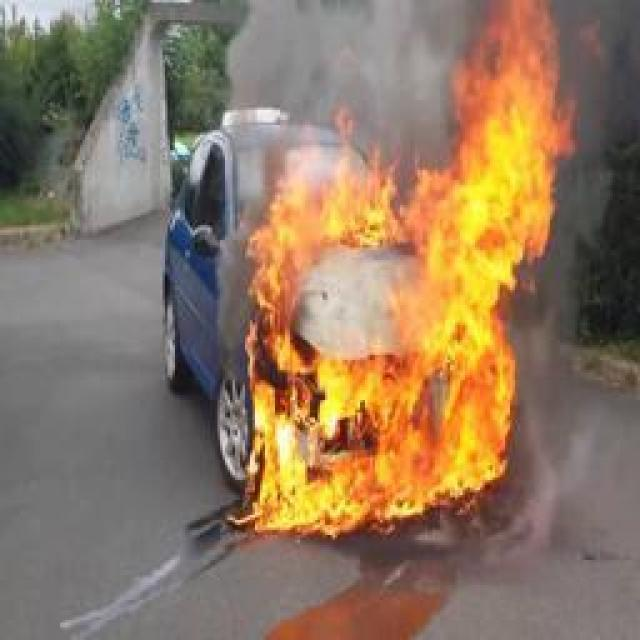Fire: (235, 2, 578, 540)
